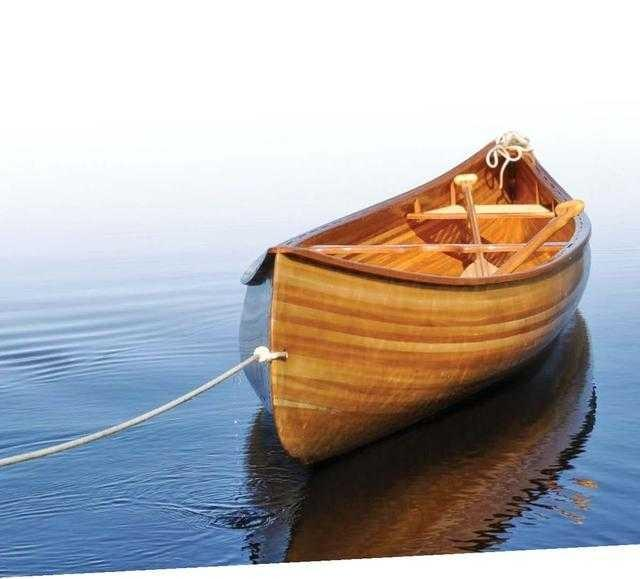kayak: (237, 131, 592, 467)
